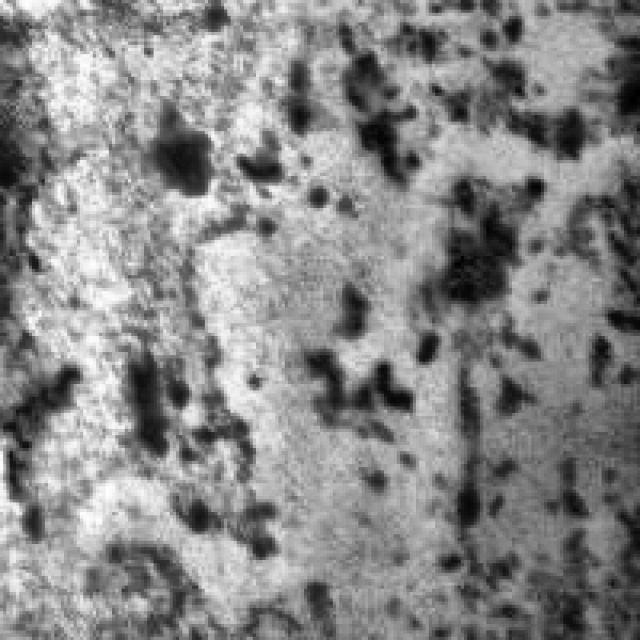Patches: (140, 102, 212, 198)
Rolled_in_Scale: (202, 41, 636, 614)
Scratches: (0, 356, 83, 502)
